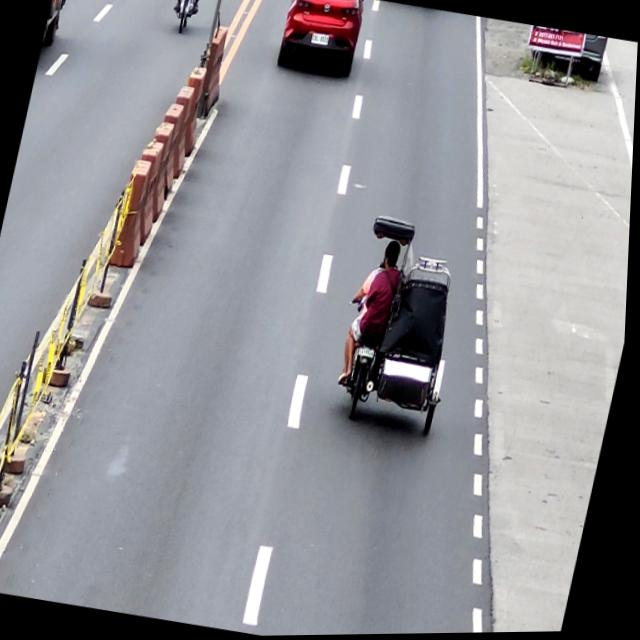Car: (274, 0, 368, 82)
License-Plate: (359, 344, 379, 361), (309, 32, 330, 48)
Tricycle: (330, 216, 480, 443)
